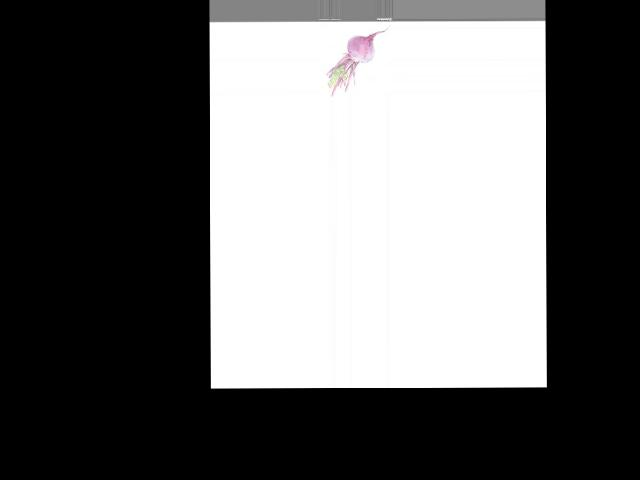beet: (325, 25, 390, 97)
